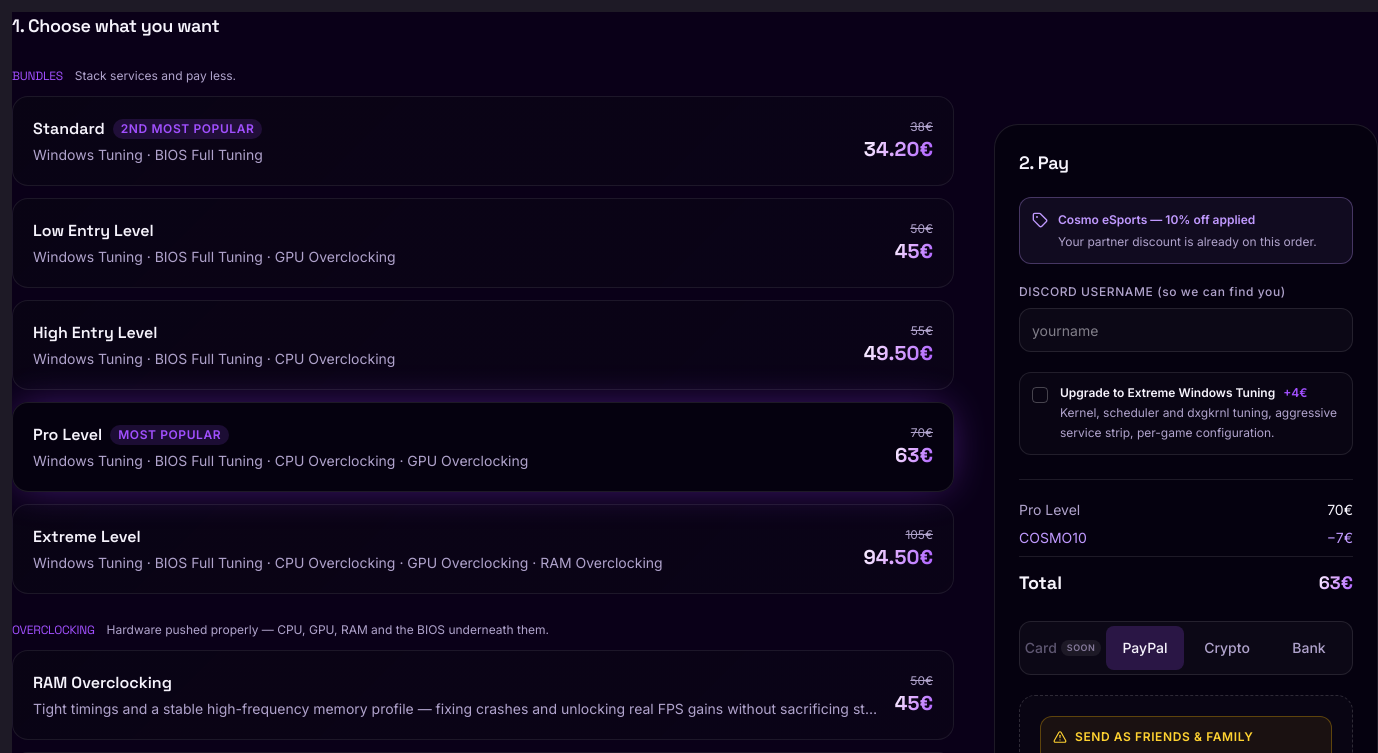
CheckoutClient crypto tab › is always open now that crypto is settled in a ticket
This screenshot has width=1378, height=753.
Click the tab "Crypto": (1227, 648) [1188,626,1266,670]
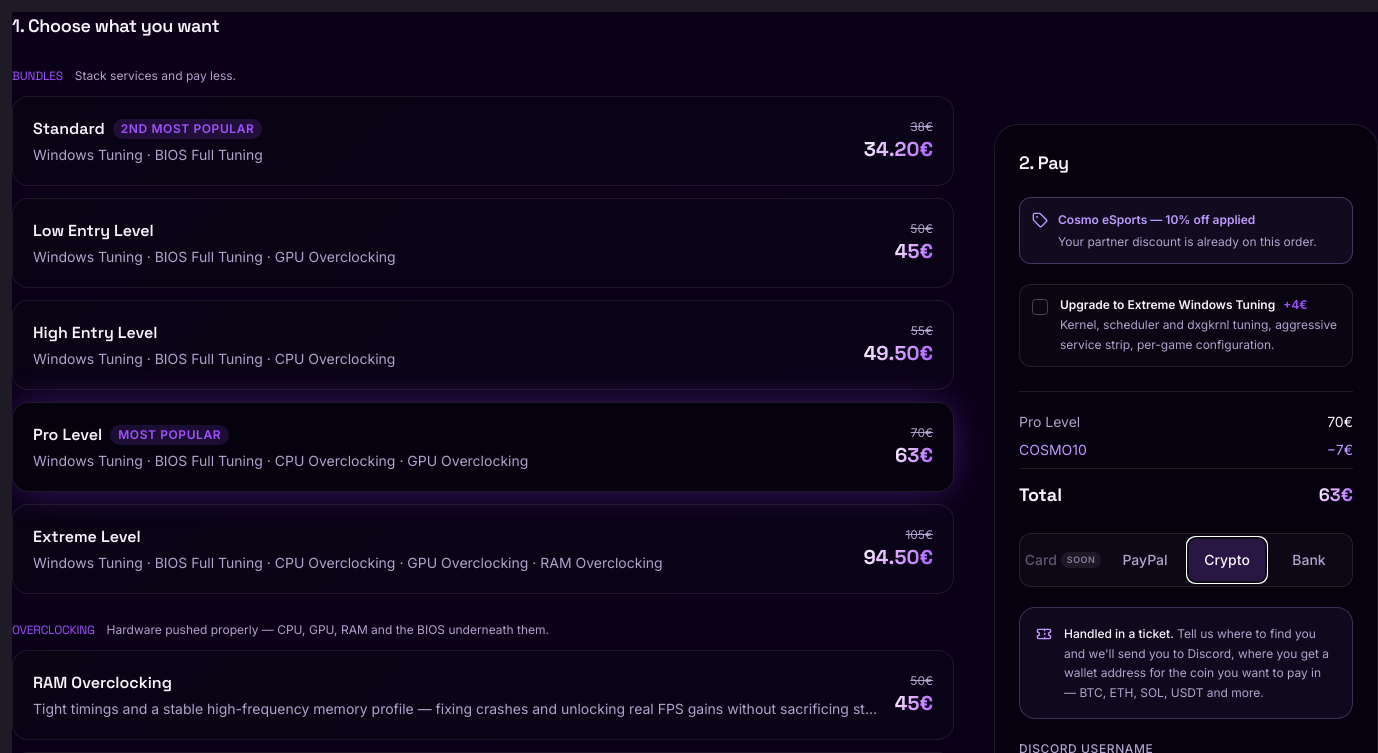
Expected: the text "Handled in a ticket." is shown, [1064,626,1174,641]
